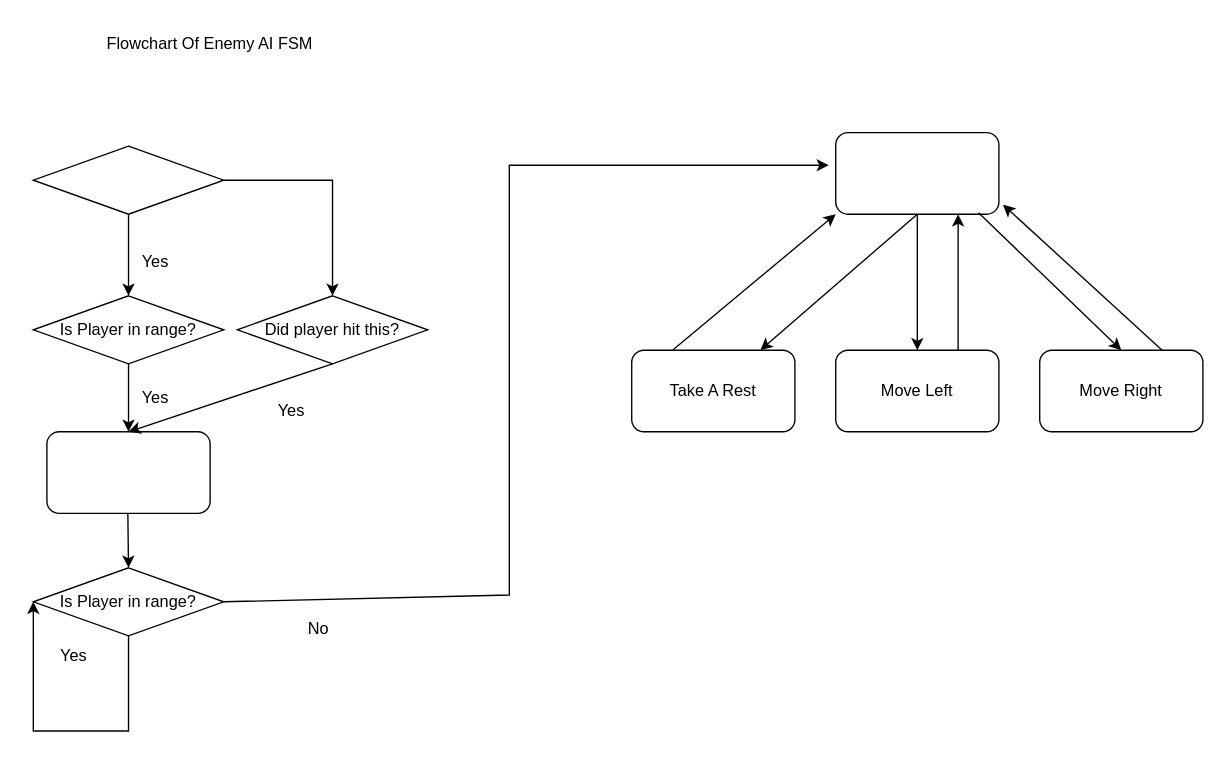
This 1227x766 diagram has some shape labels left out. Each missing label, with the centre of its shape:
"Decide Random Behavior" goes at point (916, 172).
"Follow Target" goes at point (128, 471).
"Is AutoFollow On?" goes at point (128, 179).
